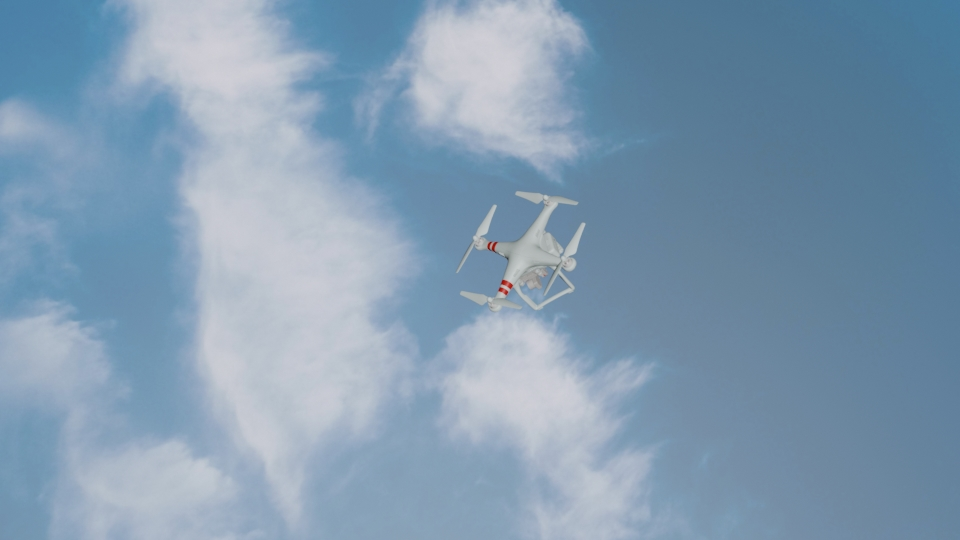drone: (456, 188, 591, 314)
